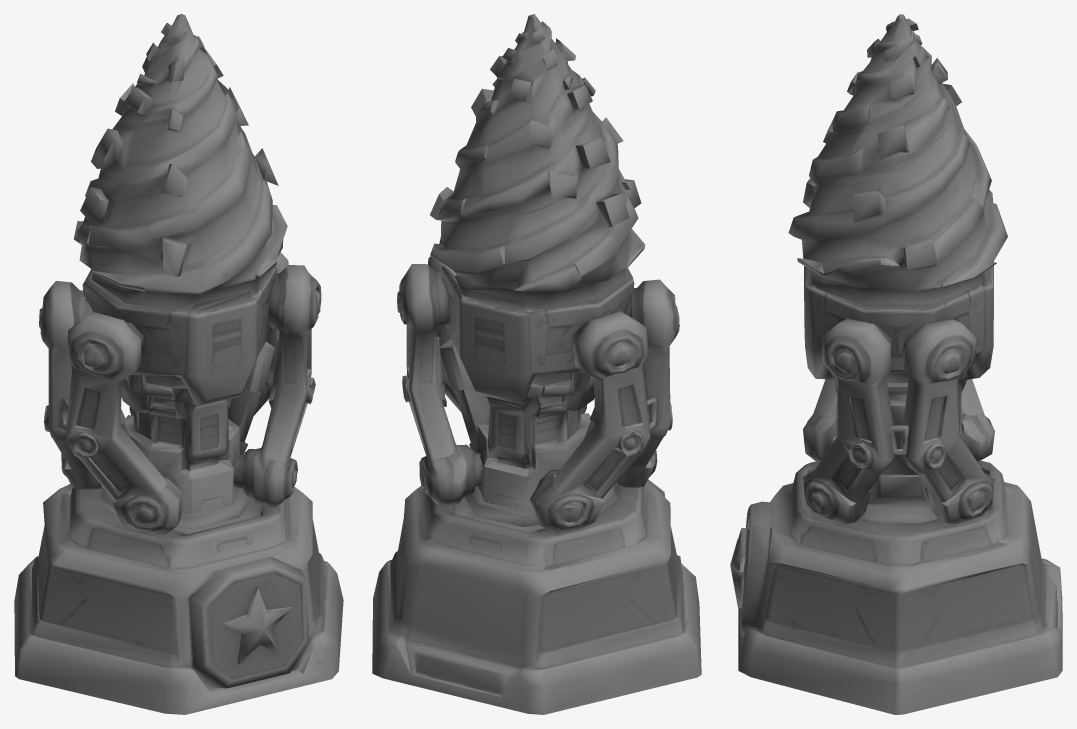
File: iron_kazici.glb
The picture shows the model from 3 angles, left to right: view 1: azimuth 30°, elevation 25°; view 2: azimuth 150°, elevation 25°; view 3: azimuth 270°, elevation 25°; orthographic projection.
Visible parts, largest first — view 1: iron_kazici_AO_candidate; view 2: iron_kazici_AO_candidate; view 3: iron_kazici_AO_candidate.
Boxes of the visible parts, x1,y1,x2,y2 form: iron_kazici_AO_candidate: (14, 14, 343, 714); iron_kazici_AO_candidate: (372, 14, 701, 714); iron_kazici_AO_candidate: (730, 14, 1062, 714).
Size of the model in its own units: 0.5457 by 1 by 0.4841.
Materials: 1 (1 with a texture image).
